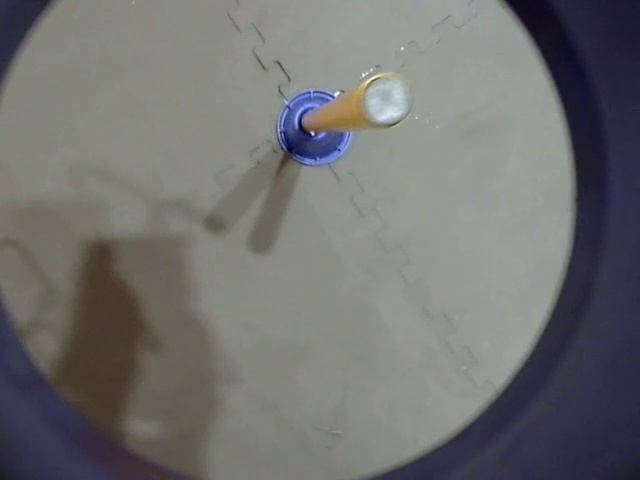tip: (354, 71, 416, 134)
